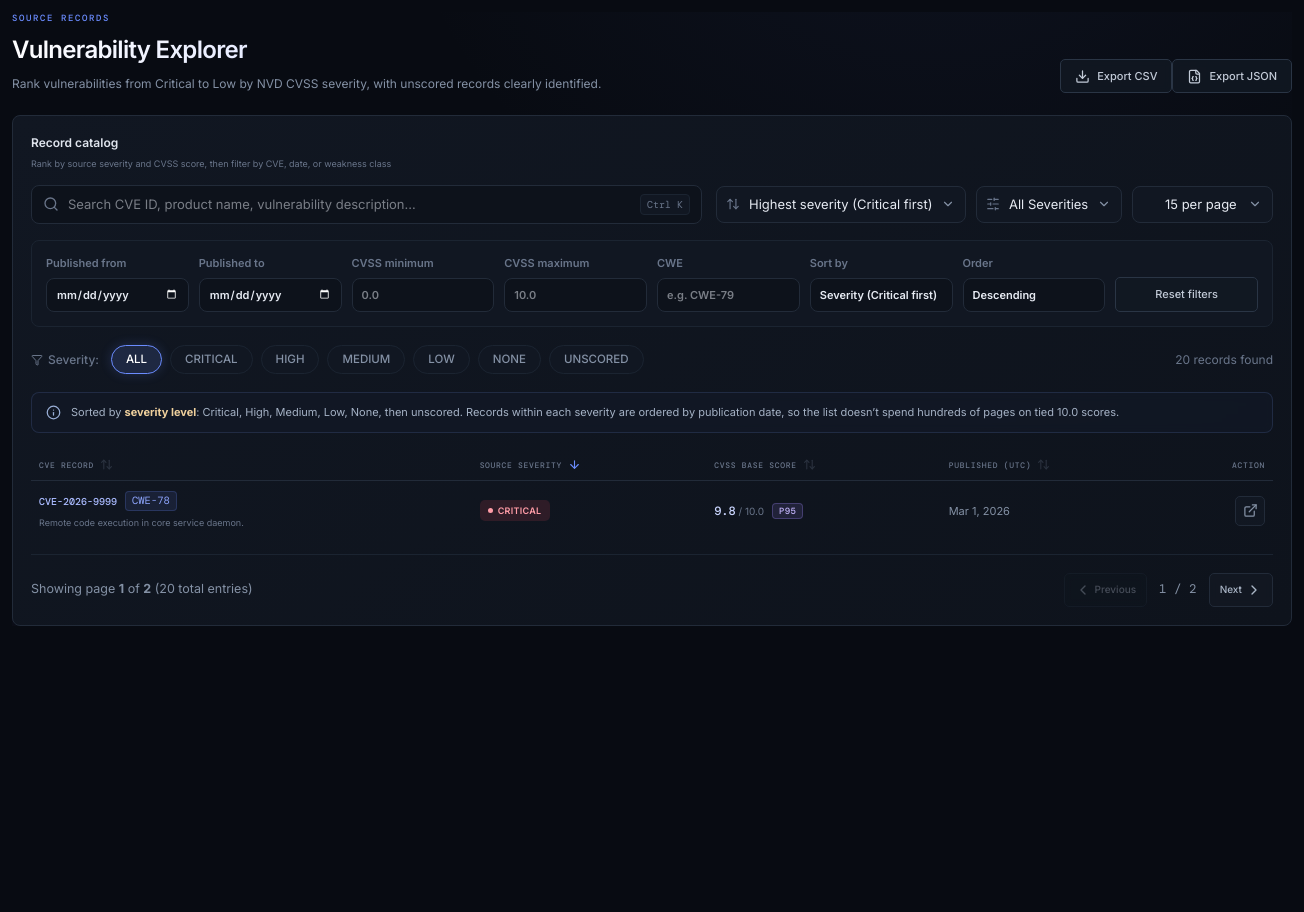
Scenario: Vulnerability Explorer › loads and displays the next page instead of keeping stale rows
The width and height of the screenshot is (1304, 912).
Expected: the text "CVE-2026-9999" is shown, x1=39 y1=495 x2=117 y2=508
Click the button "Next": [1241, 590] box x1=1209 y1=573 x2=1273 y2=607
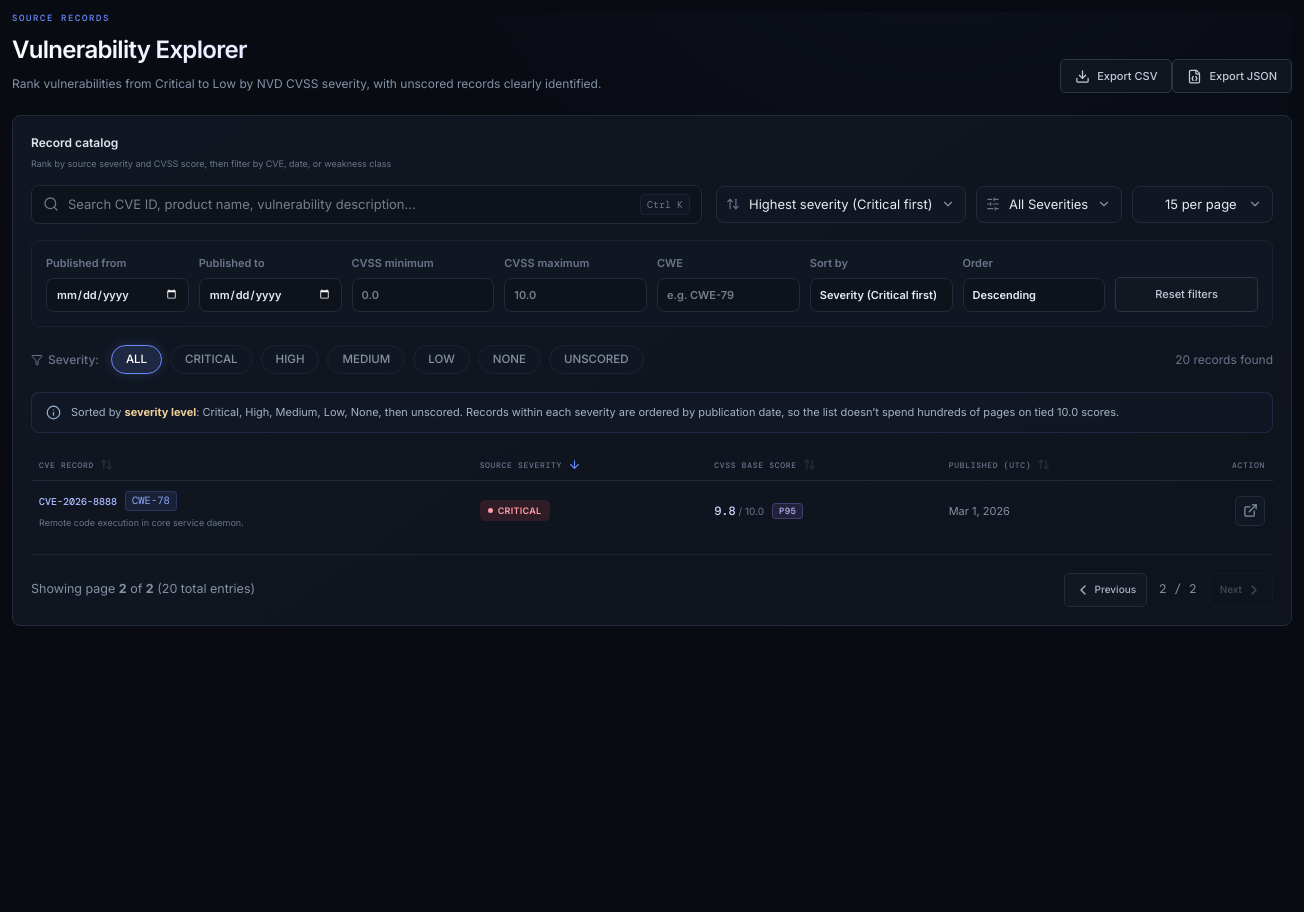
Result: the text "CVE-2026-8888" is shown at x1=39 y1=495 x2=117 y2=508
Result: the element showing "Showing page 2 of 2 (20 total entries)" is shown at x1=31 y1=580 x2=255 y2=599
Result: the text "CVE-2026-9999" is gone
